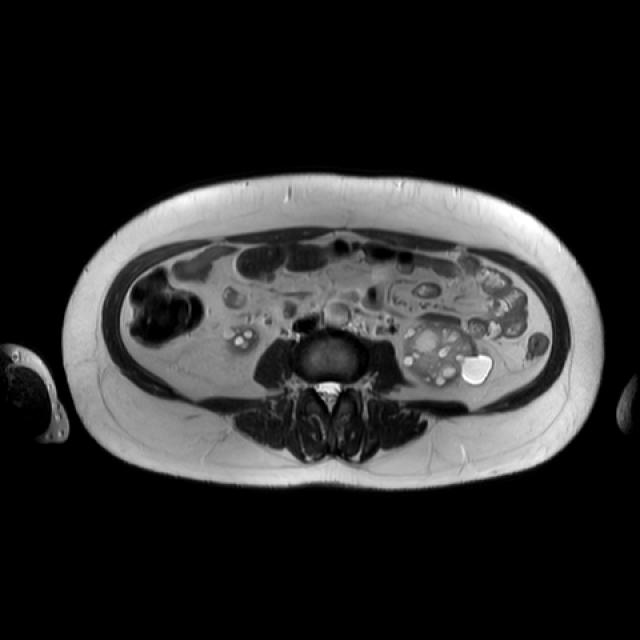sag: (221, 324, 263, 356)
sol: (401, 320, 493, 391)
